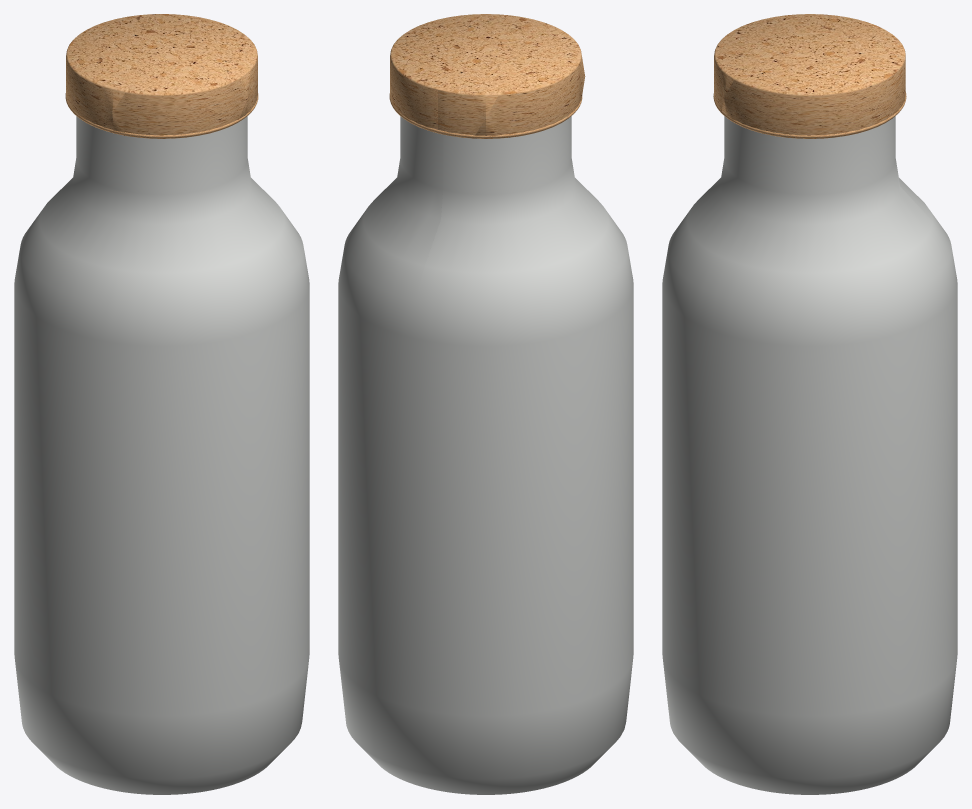
3 views of the same model, side by side, from view 1: azimuth 30°, elevation 25°; view 2: azimuth 150°, elevation 25°; view 3: azimuth 270°, elevation 25° (orthographic).
Visible parts, largest first — view 1: thin shell with corrected shoulder, removable closure, closure lower bead; view 2: thin shell with corrected shoulder, removable closure, closure lower bead; view 3: thin shell with corrected shoulder, removable closure, closure lower bead.
Boxes of the visible parts, x1,y1,x2,y2 form: thin shell with corrected shoulder: [14, 116, 309, 794]; removable closure: [66, 14, 257, 138]; closure lower bead: [65, 93, 258, 138]; thin shell with corrected shoulder: [338, 116, 633, 794]; removable closure: [390, 14, 585, 138]; closure lower bead: [389, 93, 582, 138]; thin shell with corrected shoulder: [662, 116, 957, 794]; removable closure: [714, 14, 905, 138]; closure lower bead: [713, 92, 906, 138].
Bounding box in the file's own units: 0.0886 × 0.2291 × 0.0886.
Materials: 3 (1 with a texture image).
